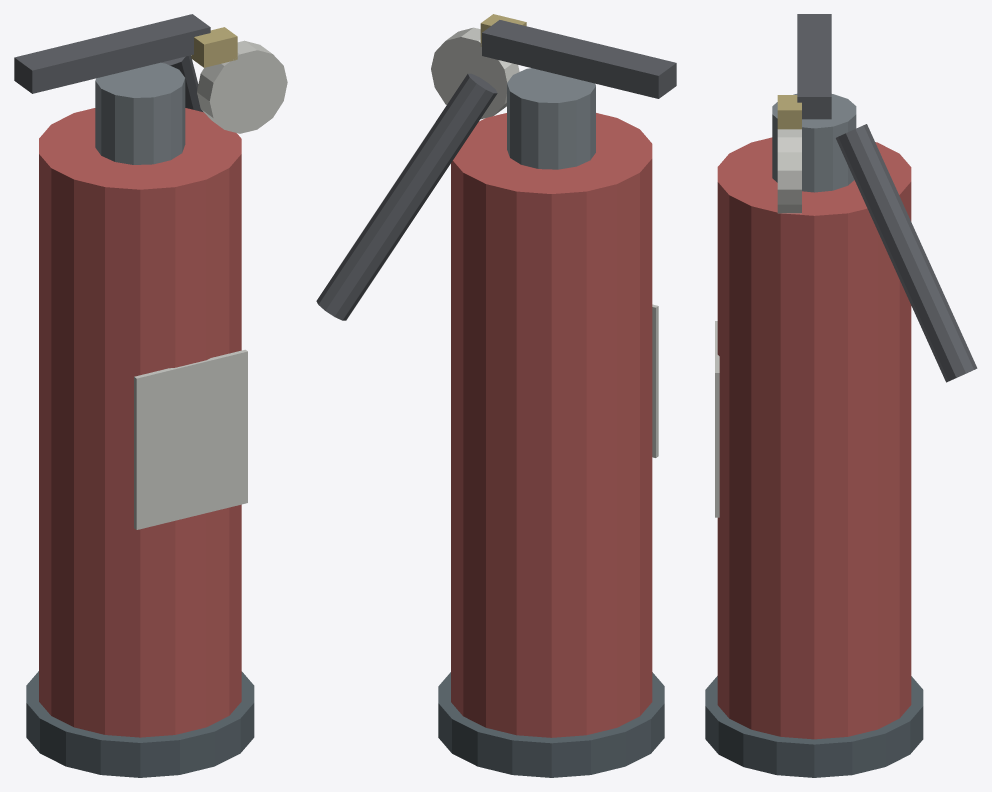
The model's file is COR-008.glb.
3 views of the same model, side by side, from view 1: azimuth 30°, elevation 25°; view 2: azimuth 150°, elevation 25°; view 3: azimuth 270°, elevation 25° (orthographic). The views are drawn at different scales.
Parts seen in each view (by area): view 1: 000_Extinguisher_red_can, 007_Warning_label, 001_Can_foot, 002_Extinguisher_neck, 003_Upper_lever, 005_Pressure_gauge, 004_Safety_pin, 006_Rubber_hose; view 2: 000_Extinguisher_red_can, 001_Can_foot, 006_Rubber_hose, 002_Extinguisher_neck, 003_Upper_lever, 005_Pressure_gauge, 007_Warning_label; view 3: 000_Extinguisher_red_can, 001_Can_foot, 006_Rubber_hose, 002_Extinguisher_neck, 003_Upper_lever, 005_Pressure_gauge, 007_Warning_label, 004_Safety_pin.
Boxes of the visible parts, bbox=[...] form: 000_Extinguisher_red_can: bbox=[39, 108, 241, 737]; 007_Warning_label: bbox=[134, 349, 247, 529]; 001_Can_foot: bbox=[26, 671, 254, 777]; 002_Extinguisher_neck: bbox=[95, 62, 185, 164]; 003_Upper_lever: bbox=[14, 14, 210, 93]; 005_Pressure_gauge: bbox=[197, 40, 287, 133]; 004_Safety_pin: bbox=[191, 27, 237, 67]; 006_Rubber_hose: bbox=[161, 55, 203, 112]; 000_Extinguisher_red_can: bbox=[451, 113, 652, 737]; 001_Can_foot: bbox=[438, 672, 664, 777]; 006_Rubber_hose: bbox=[316, 73, 497, 320]; 002_Extinguisher_neck: bbox=[507, 68, 595, 169]; 003_Upper_lever: bbox=[482, 20, 676, 98]; 005_Pressure_gauge: bbox=[431, 27, 519, 119]; 007_Warning_label: bbox=[652, 304, 658, 457]; 000_Extinguisher_red_can: bbox=[717, 137, 911, 739]; 001_Can_foot: bbox=[705, 676, 923, 777]; 006_Rubber_hose: bbox=[836, 124, 977, 382]; 002_Extinguisher_neck: bbox=[772, 94, 856, 192]; 003_Upper_lever: bbox=[797, 14, 831, 119]; 005_Pressure_gauge: bbox=[777, 129, 801, 213]; 007_Warning_label: bbox=[715, 321, 719, 517]; 004_Safety_pin: bbox=[777, 95, 801, 129].
Bounding box in the file's own units: 0.2477 × 0.595 × 0.2214.
